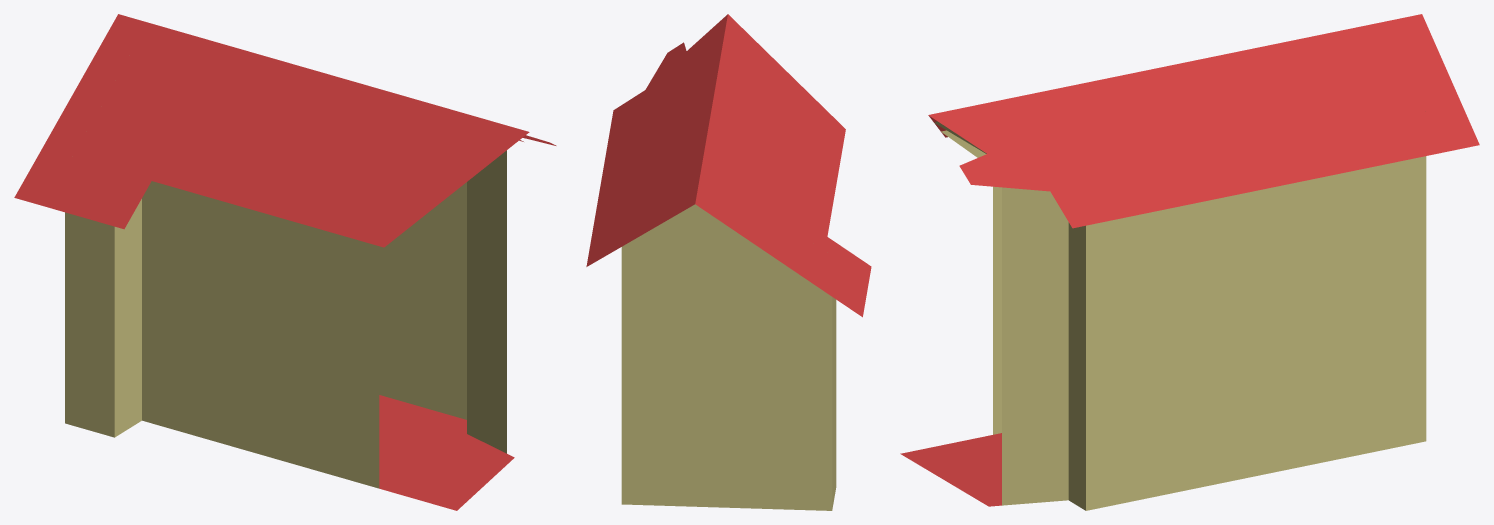
The picture shows the model from 3 angles, left to right: view 1: azimuth 30°, elevation 25°; view 2: azimuth 150°, elevation 25°; view 3: azimuth 270°, elevation 25°; orthographic projection. The views are drawn at different scales.
Bounding box in the file's own units: 18.67 × 21.62 × 15.83.
